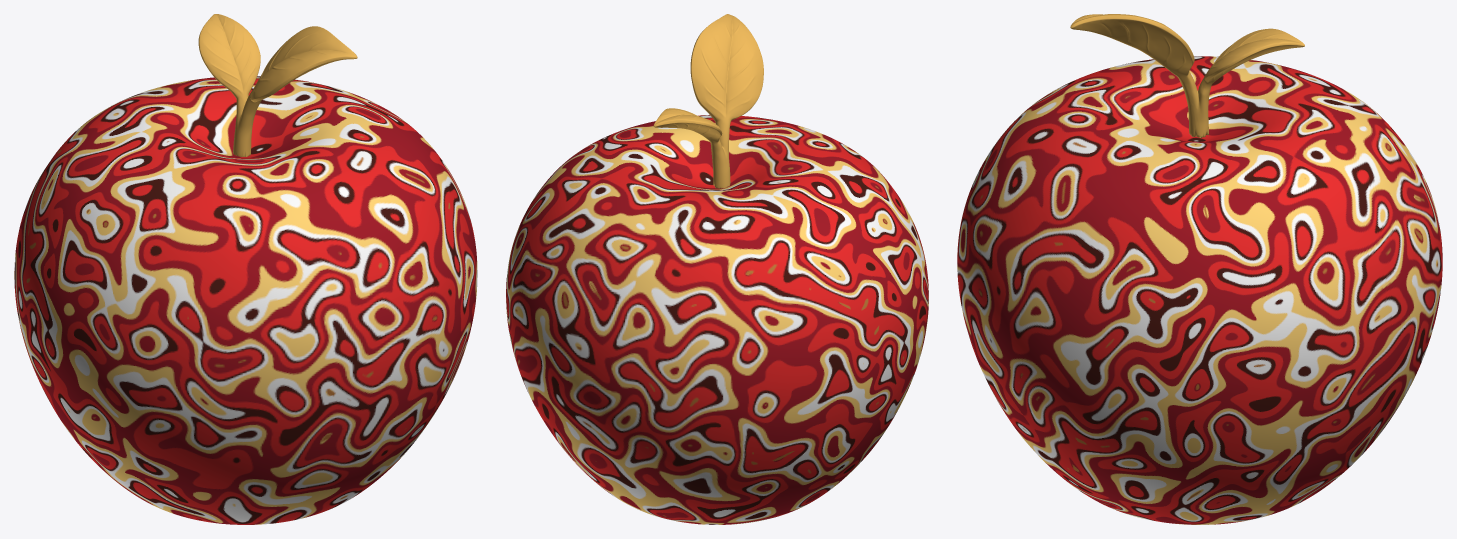
Rendered from apple.glb.
3 renders of one model, left to right at view 1: azimuth 30°, elevation 25°; view 2: azimuth 150°, elevation 25°; view 3: azimuth 270°, elevation 25°, orthographic. The views are drawn at different scales.
Parts seen in each view (by area): view 1: apple_Body1, apple_Accent0; view 2: apple_Body1, apple_Accent0; view 3: apple_Body1, apple_Accent0.
Boxes of the visible parts, bbox=[...] form: apple_Body1: bbox=[14, 76, 477, 524]; apple_Accent0: bbox=[198, 14, 357, 156]; apple_Body1: bbox=[506, 115, 928, 524]; apple_Accent0: bbox=[653, 14, 763, 188]; apple_Body1: bbox=[957, 56, 1442, 524]; apple_Accent0: bbox=[1070, 14, 1304, 137].
Size of the model in its own units: 1.6 by 1.8 by 1.6.
2 materials, 1 textured.
